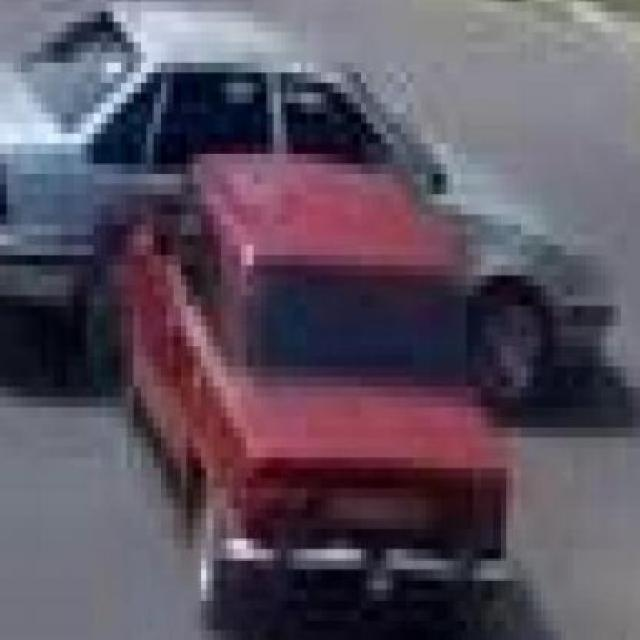accident: (0, 22, 631, 640)
